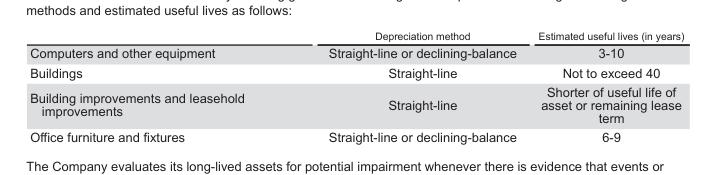table: (29, 29, 683, 144)
table column: (29, 29, 285, 144), (285, 29, 526, 144), (526, 29, 683, 144)
table column header: (29, 29, 683, 43)
table row: (29, 81, 683, 126), (29, 43, 683, 62), (29, 62, 683, 81), (29, 126, 683, 144), (29, 29, 683, 43)
